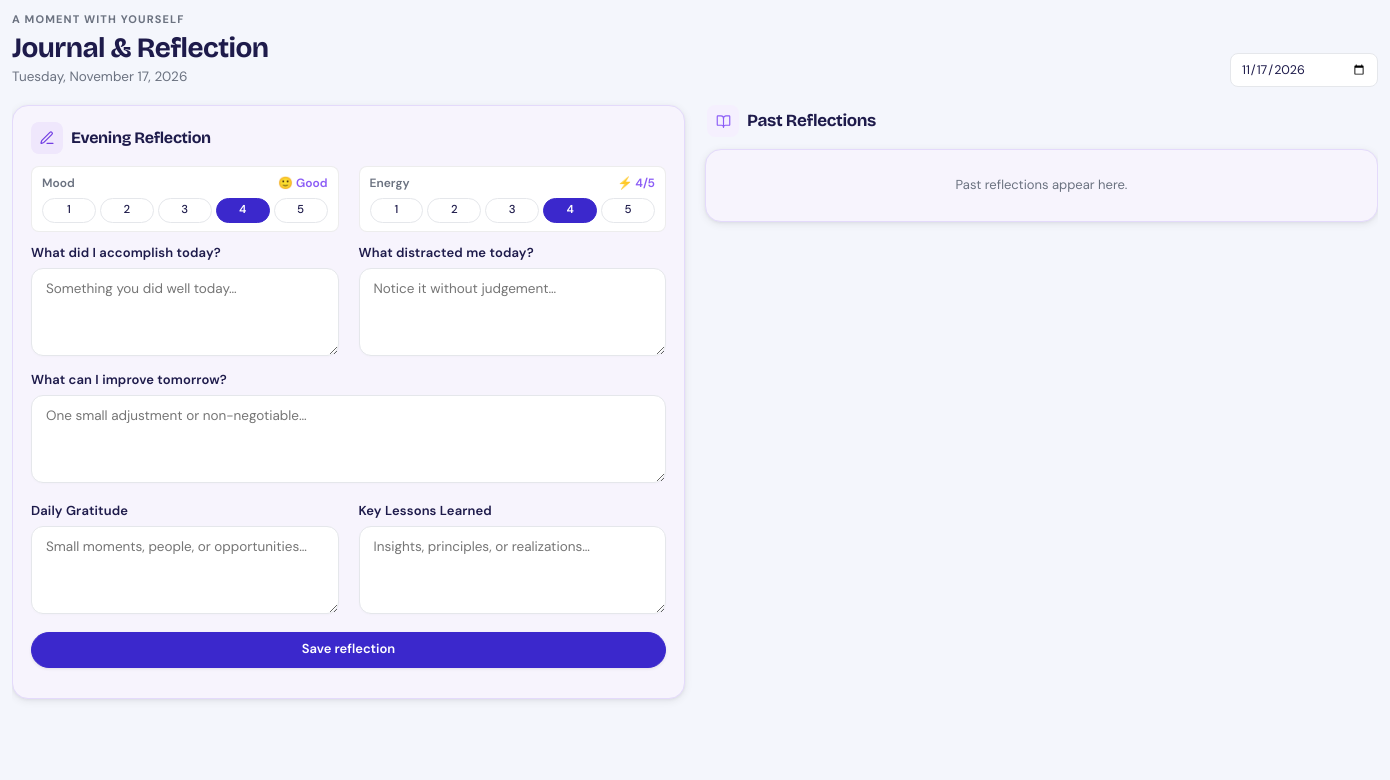
Test: Core feature pages › loads and saves Journal reflection prompts
Type "Finished API tests" into the text box labelled "What did I accomplish today?" at (185, 312), box [31,268,338,356]
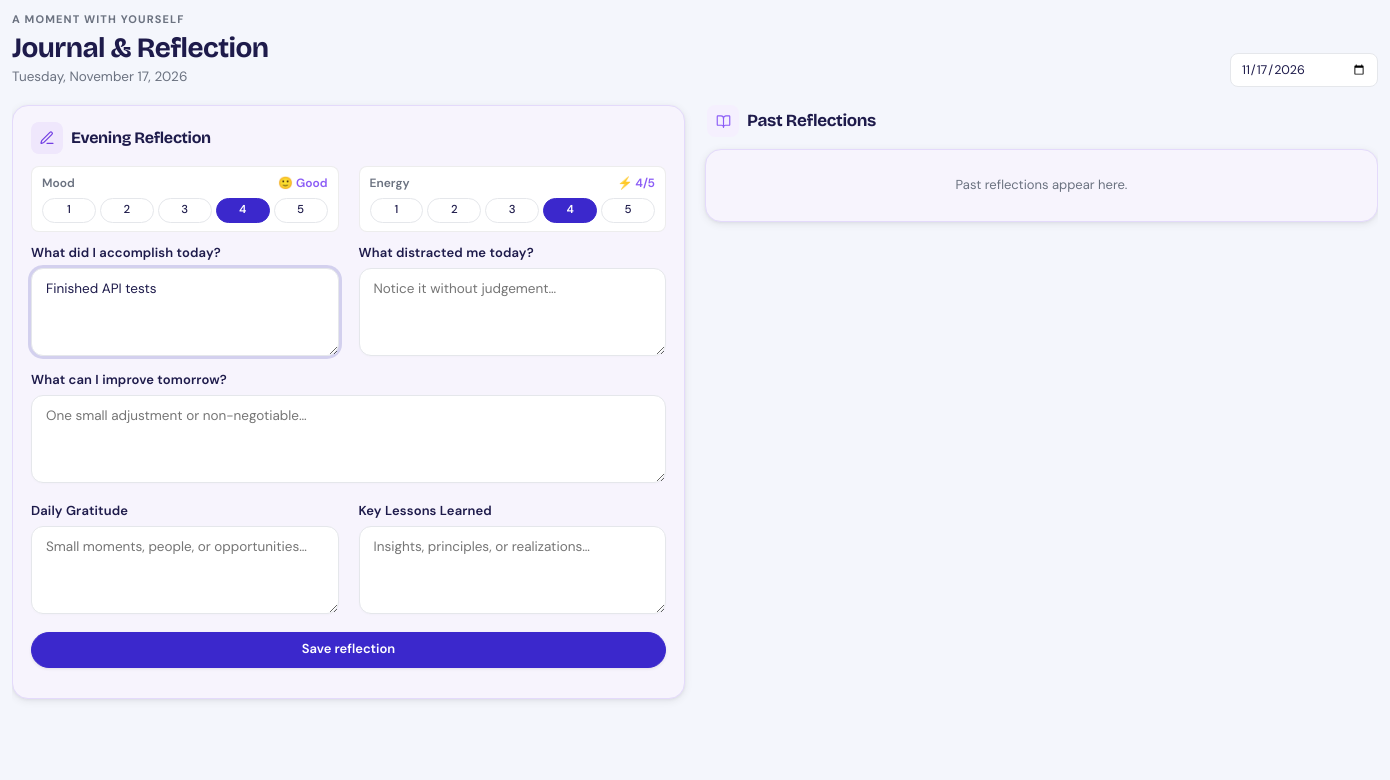
Click the button "Save reflection" at (348, 650), box [31,632,666,668]
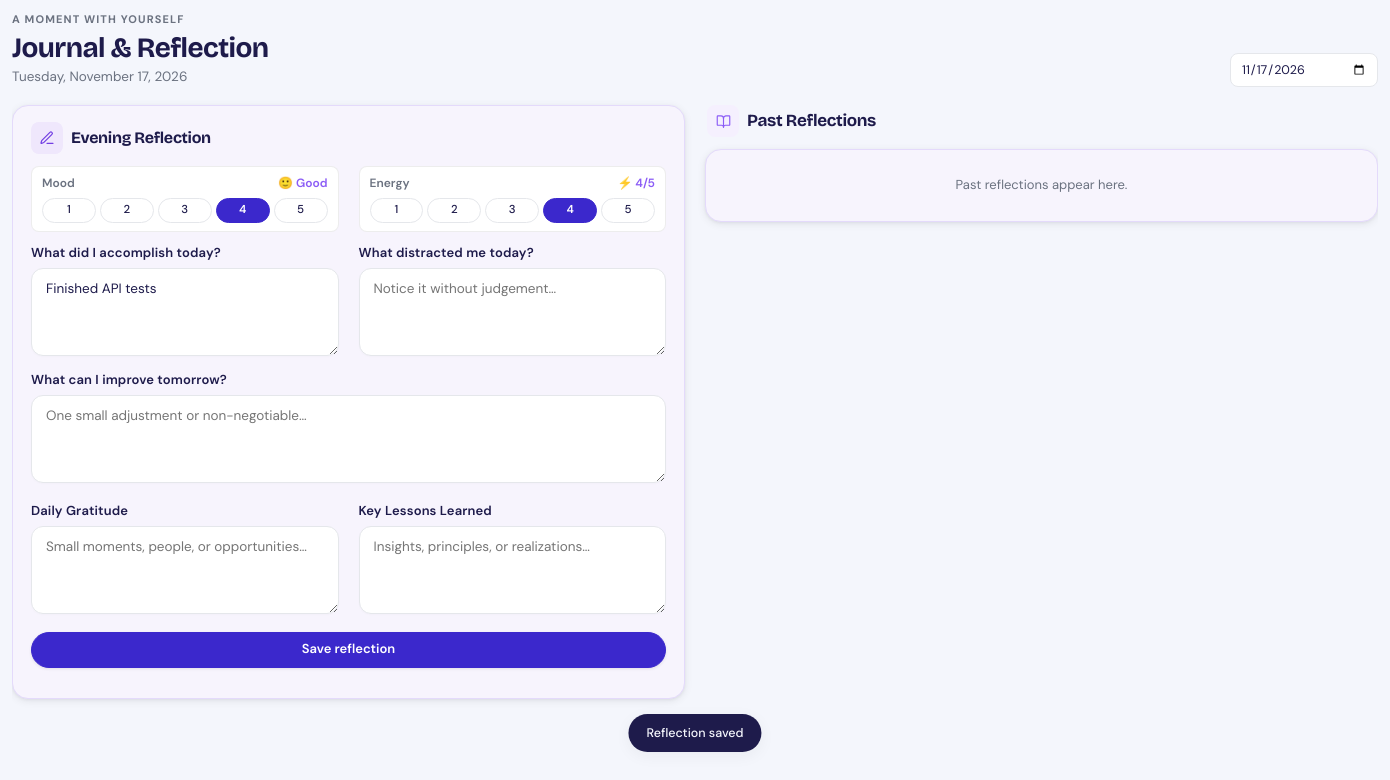
Result: the text "Reflection saved" is shown at [628,714,762,752]
